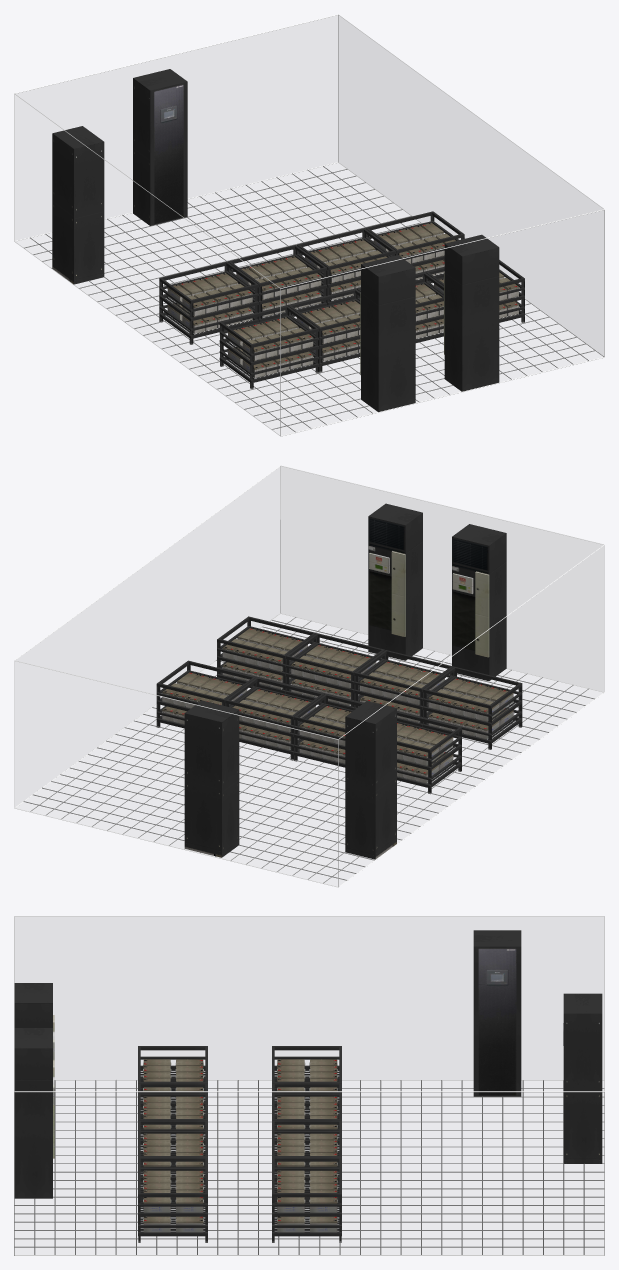
The picture shows the model from 3 angles, top to bottom: view 1: azimuth 30°, elevation 25°; view 2: azimuth 150°, elevation 25°; view 3: azimuth 270°, elevation 25°; orthographic projection. The views are drawn at different scales.
Visible parts, largest first — view 1: 1F_OpacityWall, 1F_OpacityWall01, S0E122, 1F_OpacityWall01_Line, S0E124, S0E101, 1F_Air-Conditioning01, S0E111, 1F_USP01, S0E121, 1F_OpacityWall_Line, S0E123; view 2: 1F_OpacityWall, 1F_OpacityWall01, S0E124, 1F_OpacityWall01_Line, S0E123, S0E111, 1F_Air-Conditioning01, S0E101, 1F_USP01, S0E121, S0E122, 1F_OpacityWall_Line; view 3: 1F_OpacityWall, 1F_OpacityWall01, 1F_OpacityWall01_Line, 1F_USP01, S0E121, S0E123, S0E101, S0E111, S0E122, S0E124, 1F_OpacityWall_Line, 1F_Air-Conditioning01.
Part boxes in pixels (<box>): 1F_OpacityWall: <box>15,16,603,355</box>; 1F_OpacityWall01: <box>16,163,602,435</box>; S0E122: <box>159,245,327,344</box>; 1F_OpacityWall01_Line: <box>24,166,595,432</box>; S0E124: <box>219,289,360,388</box>; S0E101: <box>444,234,499,391</box>; 1F_Air-Conditioning01: <box>360,255,415,411</box>; S0E111: <box>133,69,187,225</box>; 1F_USP01: <box>52,126,104,284</box>; S0E121: <box>296,211,464,305</box>; 1F_OpacityWall_Line: <box>14,14,604,436</box>; S0E123: <box>357,260,524,342</box>; 1F_OpacityWall: <box>15,467,603,806</box>; 1F_OpacityWall01: <box>16,614,602,885</box>; S0E124: <box>354,650,522,749</box>; 1F_OpacityWall01_Line: <box>23,617,594,883</box>; S0E123: <box>217,616,384,710</box>; S0E111: <box>184,700,239,857</box>; 1F_Air-Conditioning01: <box>452,524,506,680</box>; S0E101: <box>368,503,422,660</box>; 1F_USP01: <box>345,701,396,859</box>; S0E121: <box>156,660,324,760</box>; S0E122: <box>294,694,461,794</box>; 1F_OpacityWall_Line: <box>14,465,604,887</box>; 1F_OpacityWall: <box>15,917,603,1079</box>; 1F_OpacityWall01: <box>15,1081,603,1254</box>; 1F_OpacityWall01_Line: <box>14,1080,604,1254</box>; 1F_USP01: <box>473,930,521,1096</box>; S0E121: <box>272,1120,341,1242</box>; S0E123: <box>138,1120,207,1242</box>; S0E101: <box>14,1028,54,1198</box>; S0E111: <box>563,993,602,1163</box>; S0E122: <box>272,1046,341,1145</box>; S0E124: <box>138,1046,207,1147</box>; 1F_OpacityWall_Line: <box>14,916,604,1255</box>; 1F_Air-Conditioning01: <box>14,983,54,1060</box>.
Bounding box in the file's own units: 0.5058 × 0.221 × 0.7195.
Materials: 8 (5 with a texture image).
